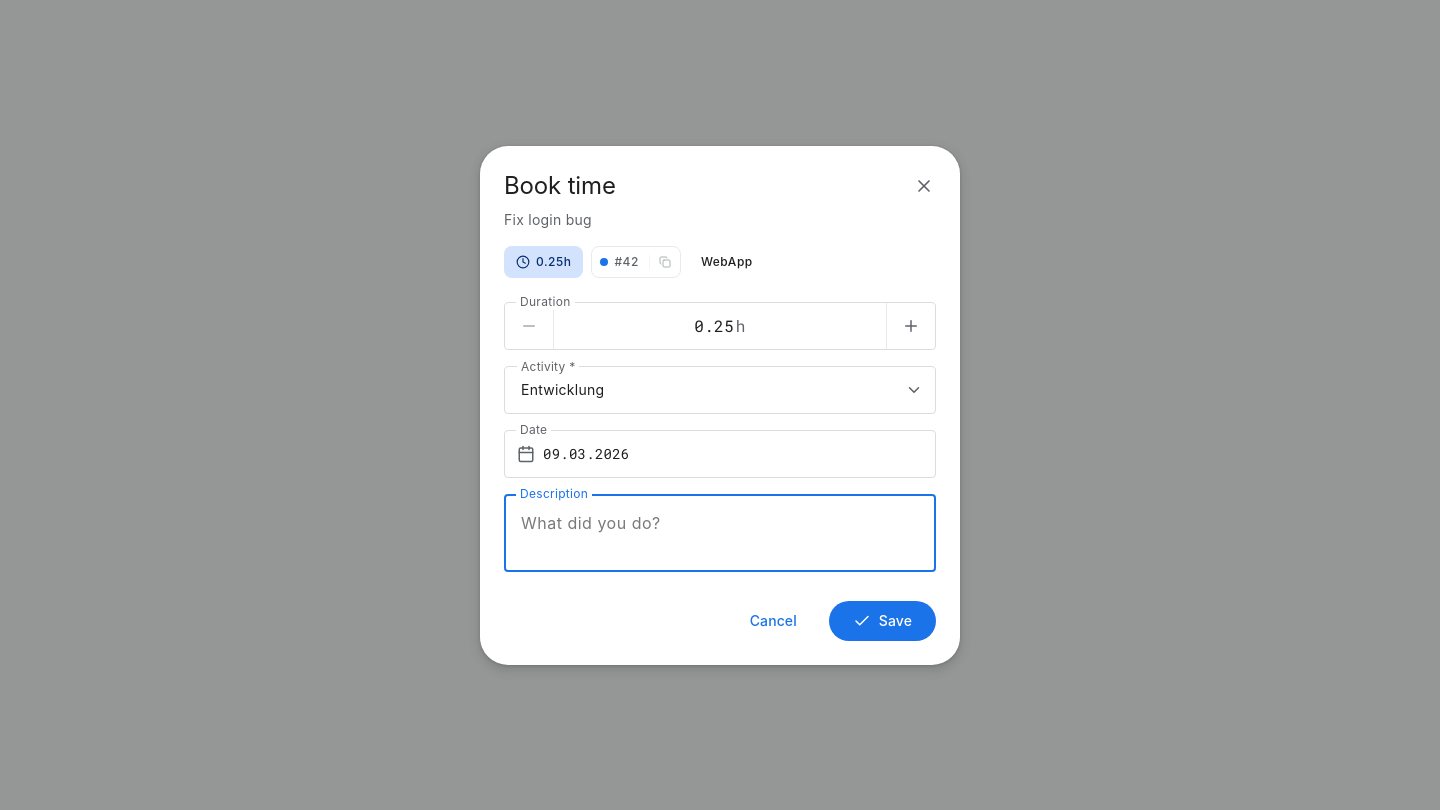
Test: BookingDialog › duration stepper increases/decreases
Click the button named "15 minutes more" at (911, 326), box [887,302,935,348]
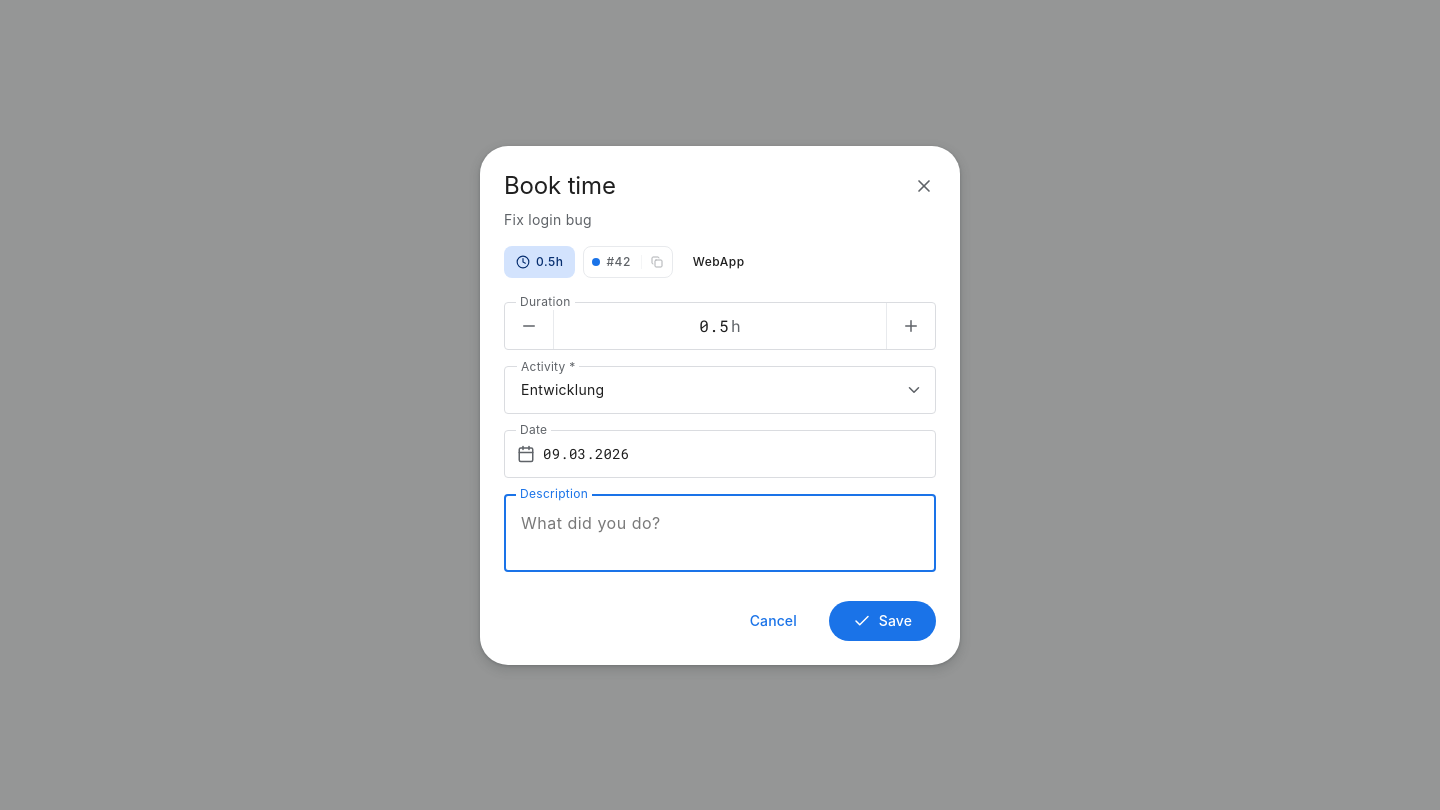
Check: the number field showing "0.5" is shown, box [699,316,728,336]
